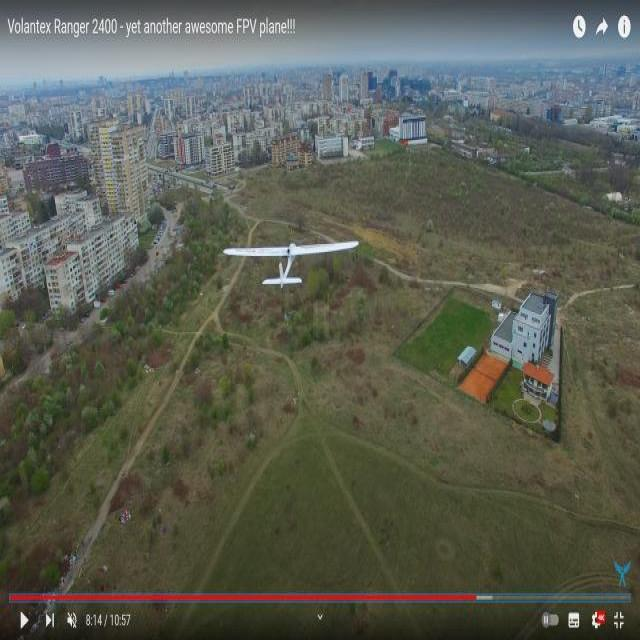iha: (260, 249, 317, 275)
